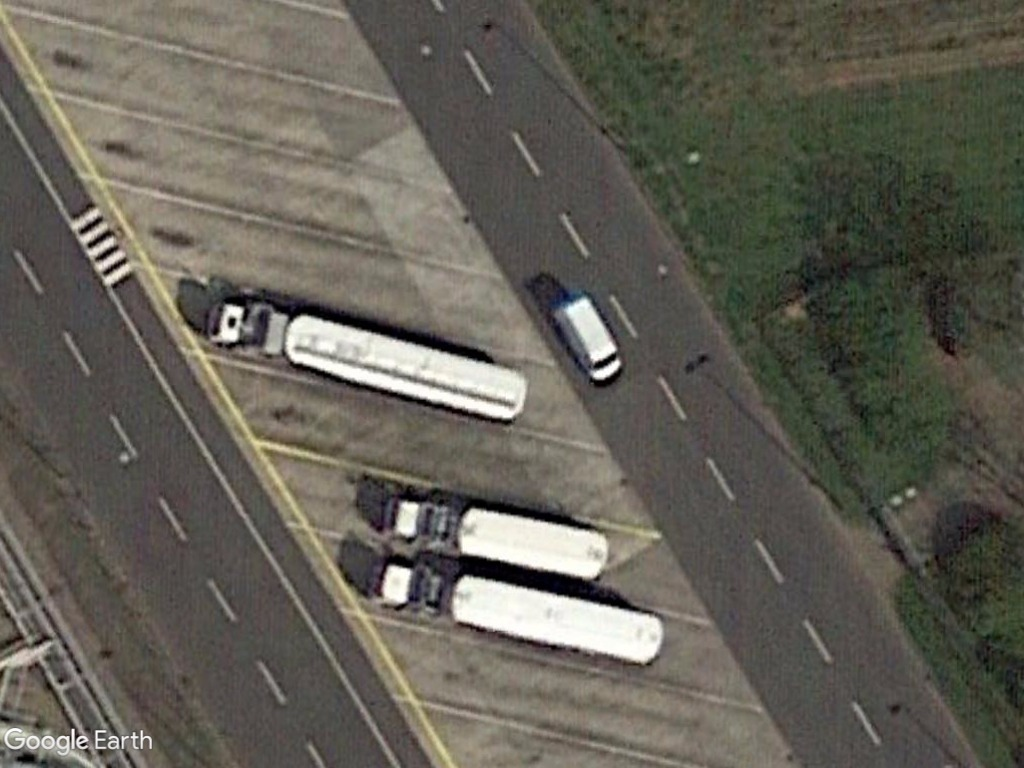longvehicle: (280, 309, 535, 429), (444, 571, 673, 670), (445, 498, 615, 582)
van: (550, 287, 629, 389)
